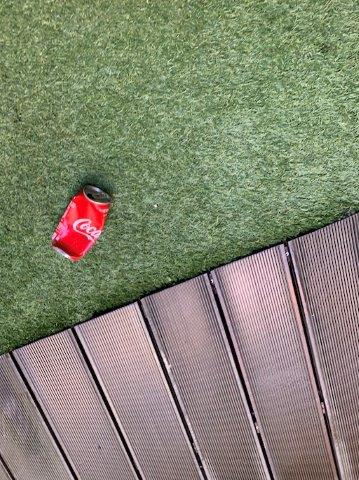kaleng: (54, 186, 108, 260)
